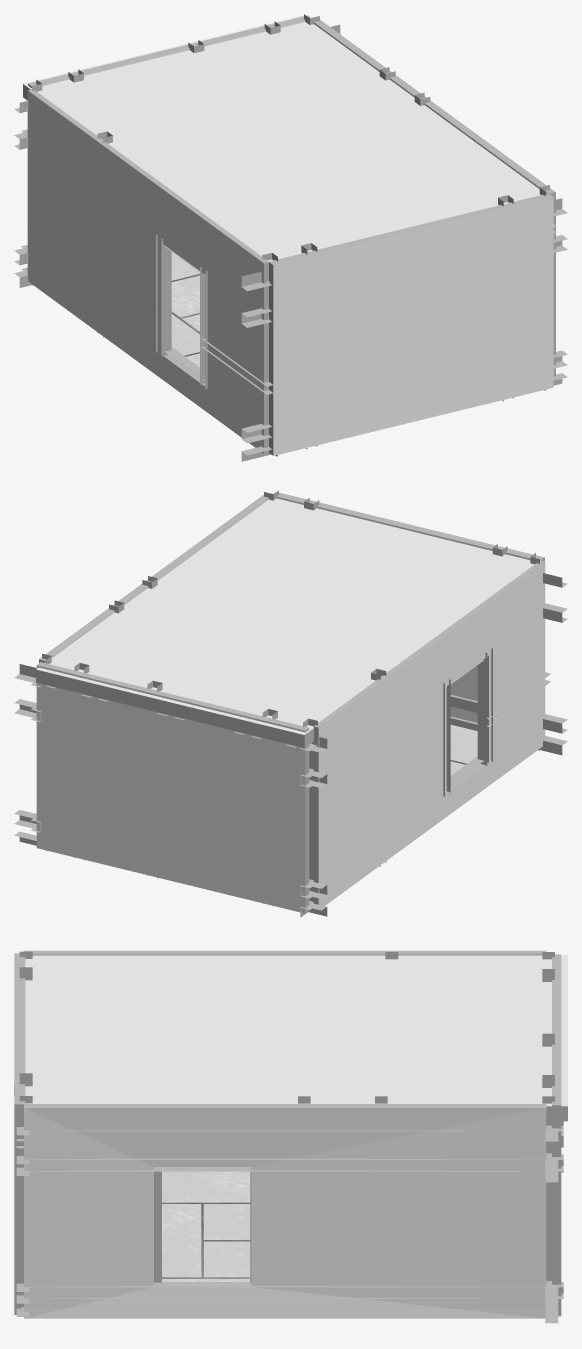
File: RoomWithUV.fbx
3 renders of one model, top to bottom at view 1: azimuth 30°, elevation 25°; view 2: azimuth 150°, elevation 25°; view 3: azimuth 270°, elevation 25°, orthographic. The views are drawn at different scales.
Visible parts, largest first — view 1: Room; view 2: Room; view 3: Room.
Boxes of the visible parts, x1,y1,x2,y2 form: Room: (14, 14, 567, 461); Room: (14, 490, 567, 917); Room: (14, 950, 567, 1323).
Bounding box in the file's own units: 659 × 861 × 380.
